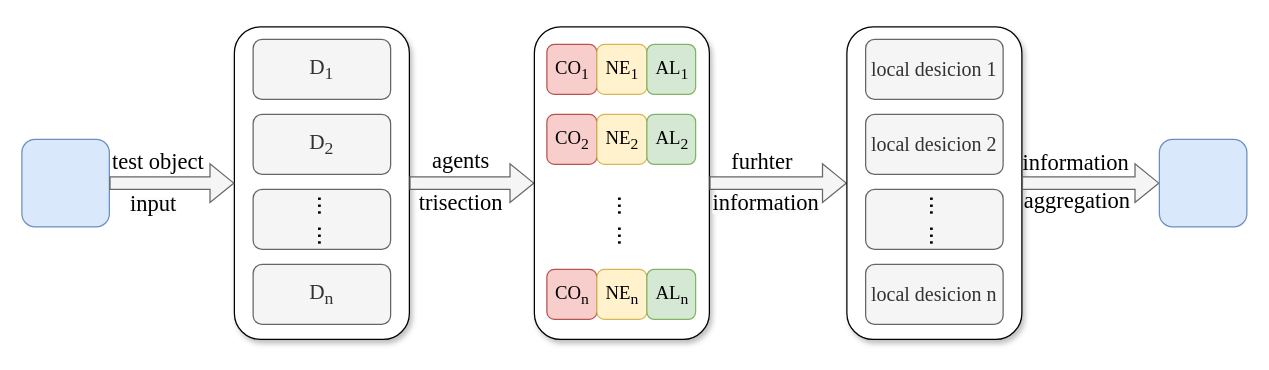
Image size: 1269x370. Some labels were removed from this diagram. Each missing label, with the centre of its shape:
final decision: [1202,182]
test table: [65,182]
